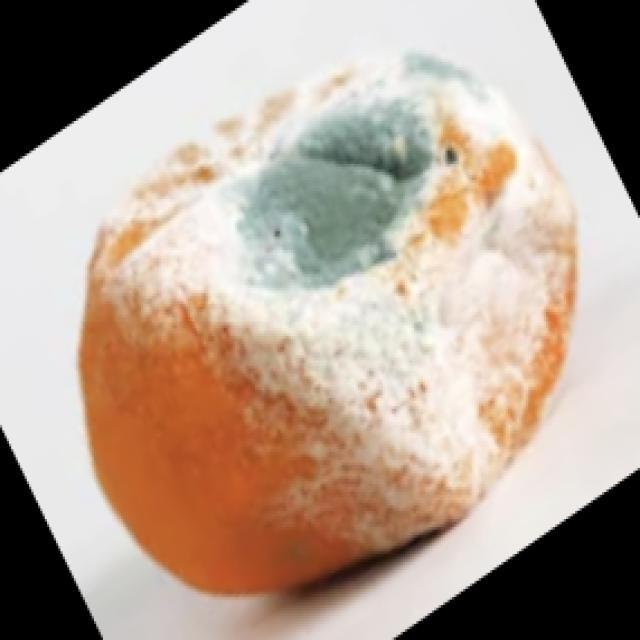sangat-busuk: (79, 53, 576, 593), (123, 52, 573, 526)
